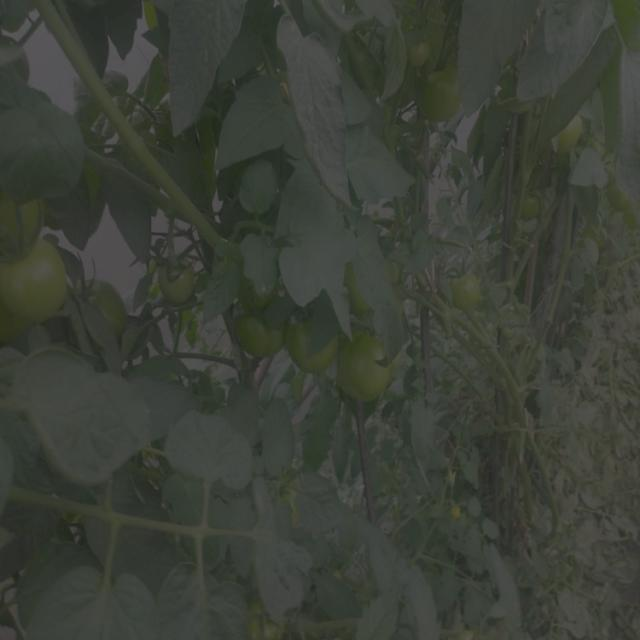tomato: (5, 239, 68, 330), (332, 347, 396, 405), (419, 67, 466, 133), (93, 280, 138, 344), (228, 312, 285, 361), (158, 261, 201, 308), (445, 271, 488, 314), (6, 195, 39, 250), (286, 321, 314, 380), (556, 111, 588, 154), (520, 195, 551, 227), (411, 46, 433, 67)
